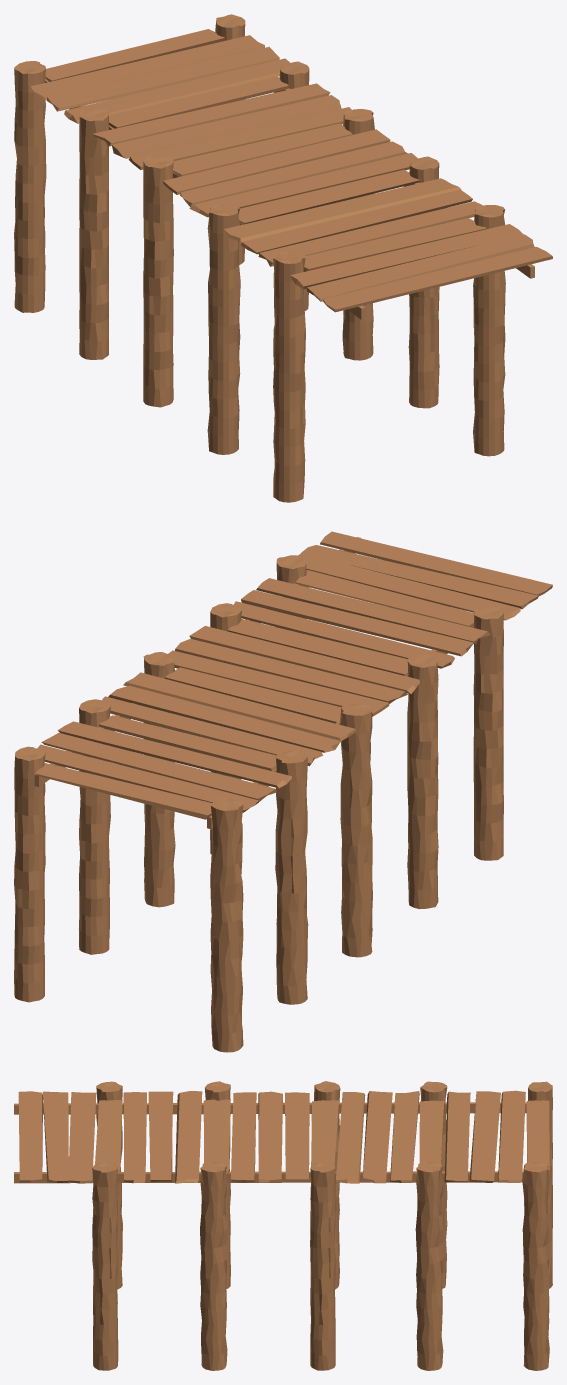
The model's file is dock_straight-1.fbx.
3 views of the same model, one above another, from view 1: azimuth 30°, elevation 25°; view 2: azimuth 150°, elevation 25°; view 3: azimuth 270°, elevation 25° (orthographic). The views are drawn at different scales.
Parts seen in each view (by area): view 1: dock; view 2: dock; view 3: dock.
Boxes of the visible parts, box(x1,y1,x2,y2) form: dock: box(14, 14, 552, 502); dock: box(14, 531, 552, 1052); dock: box(14, 1081, 552, 1370).
Bounding box in the file's own units: 403 × 408 × 1001.
